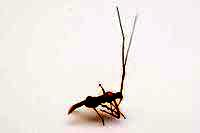Helopeltis-insect: (73, 85, 124, 119)
